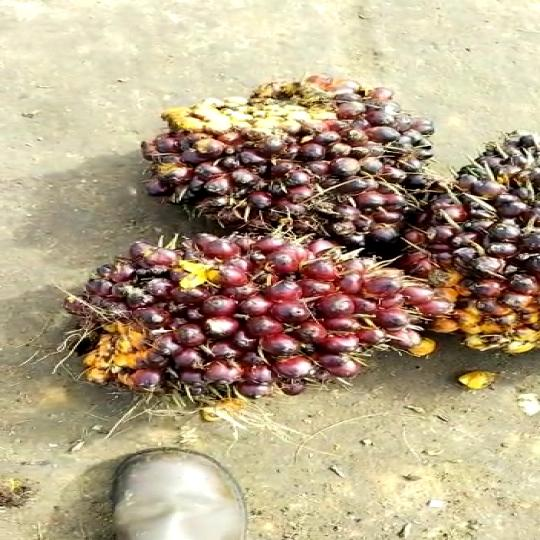kurang masak: (15, 219, 452, 422), (164, 60, 444, 248), (417, 118, 540, 373)
